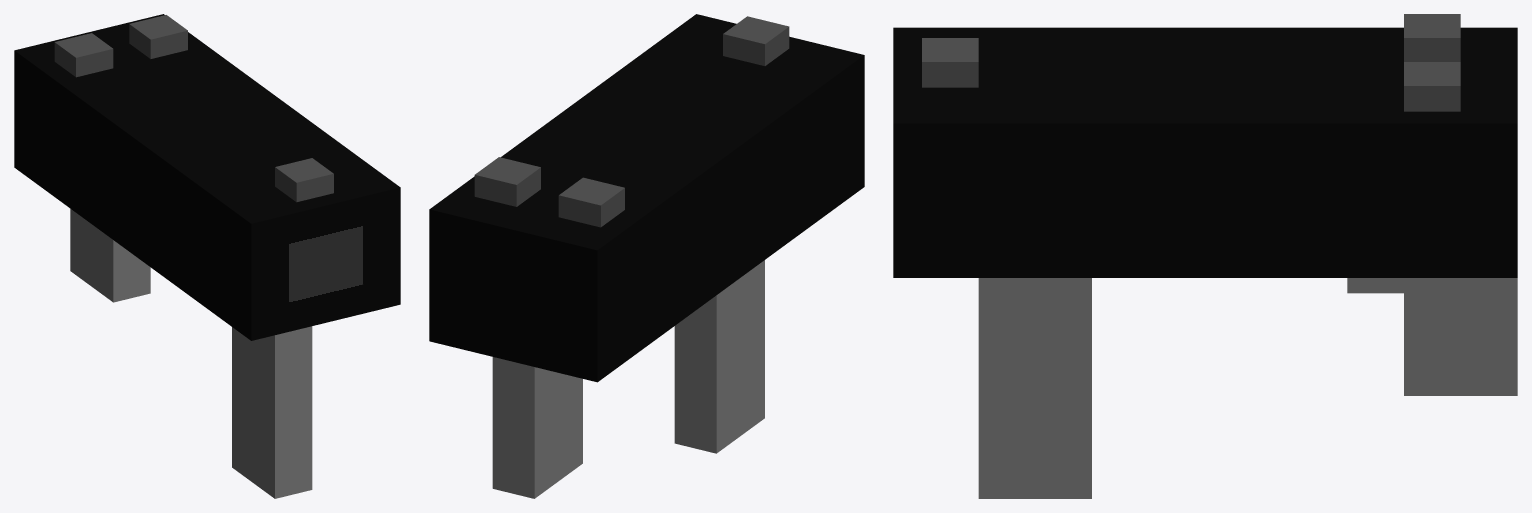
Rendered from SMG.gltf.
3 views of the same model, side by side, from view 1: azimuth 30°, elevation 25°; view 2: azimuth 150°, elevation 25°; view 3: azimuth 270°, elevation 25° (orthographic). The views are drawn at different scales.
Visible parts, largest first — view 1: mesh (×6); view 2: mesh (×6); view 3: mesh (×7).
Boxes of the visible parts, box(x1,y1,x2,y2) form: mesh (×6): box(14, 14, 400, 498); mesh (×6): box(429, 14, 864, 498); mesh (×7): box(893, 14, 1517, 498).
Size of the model in its own units: 0.5 by 1.06 by 1.38.
4 materials, 4 textured.
